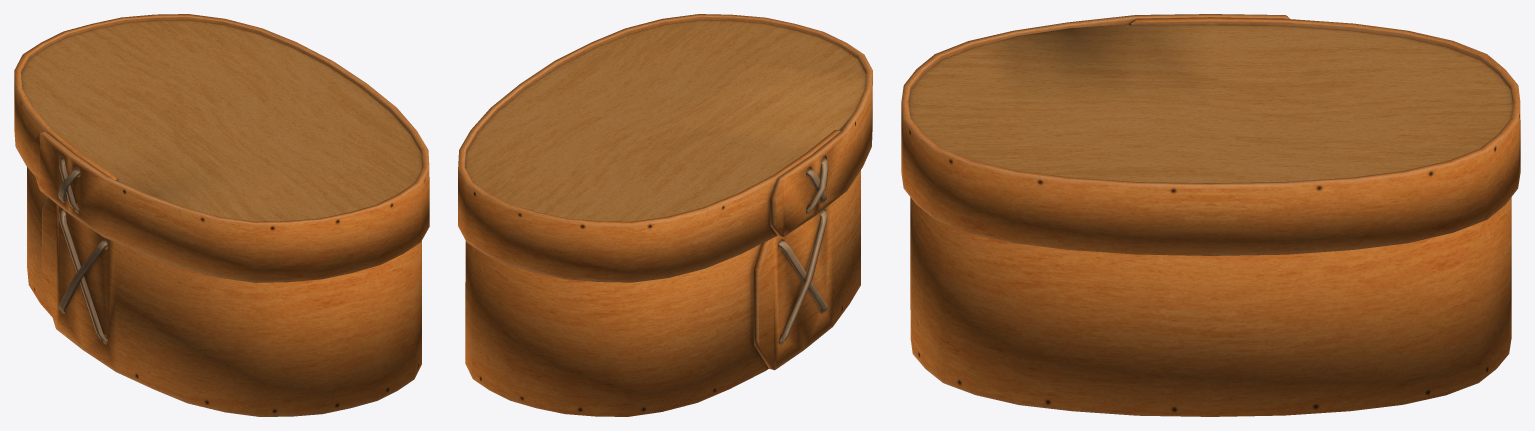
File: bentwood_box.glb
3 renders of one model, left to right at view 1: azimuth 30°, elevation 25°; view 2: azimuth 150°, elevation 25°; view 3: azimuth 270°, elevation 25°, orthographic. The views are drawn at different scales.
Visible parts, largest first — view 1: top, box, lid, box_tie, lid_tie; view 2: top, box, lid, box_tie, lid_tie; view 3: box, top, lid.
Boxes of the visible parts, x1,y1,x2,y2 form: top: (21, 20, 422, 221); box: (27, 167, 421, 416); lid: (14, 14, 429, 282); box_tie: (59, 209, 107, 343); lid_tie: (58, 156, 80, 212); top: (465, 20, 866, 221); box: (465, 170, 860, 416); lid: (458, 14, 872, 282); box_tie: (778, 209, 827, 343); lid_tie: (806, 156, 828, 213); box: (910, 197, 1511, 416); top: (908, 24, 1513, 183); lid: (901, 14, 1520, 255).
Bounding box in the file's own units: 1.1 × 0.6776 × 1.62.
1 material, 1 textured.
